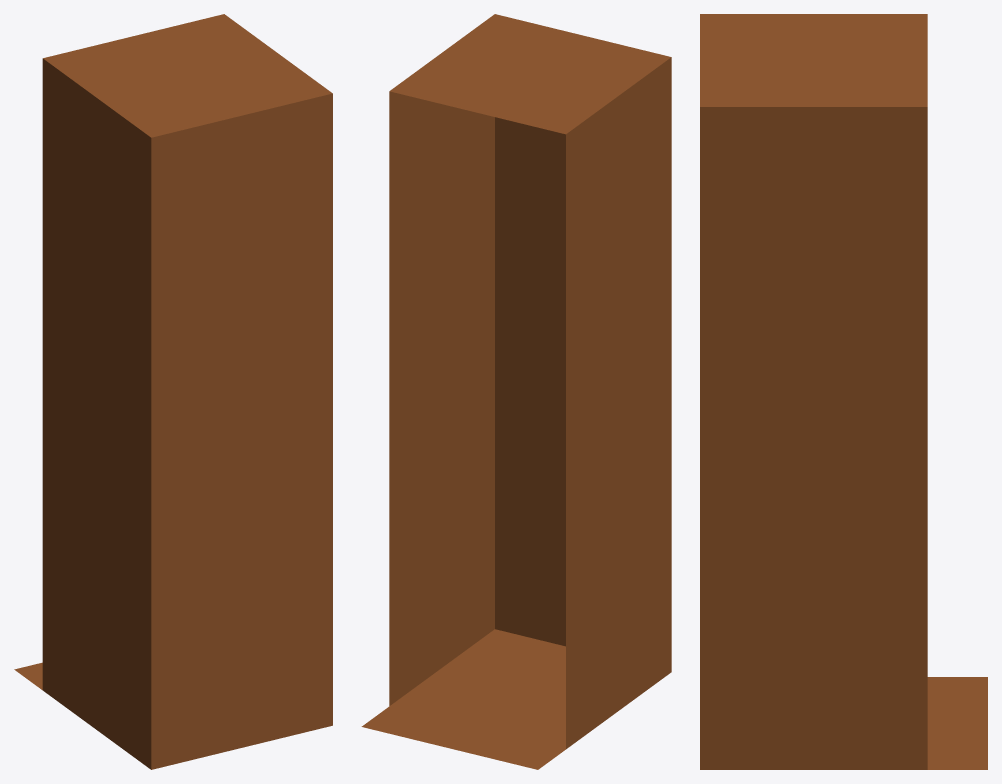
The model's file is DoorBack.glb.
The picture shows the model from 3 angles, left to right: view 1: azimuth 30°, elevation 25°; view 2: azimuth 150°, elevation 25°; view 3: azimuth 270°, elevation 25°; orthographic projection. The views are drawn at different scales.
Visible parts, largest first — view 1: S_Door_Back; view 2: S_Door_Back; view 3: S_Door_Back.
Boxes of the visible parts, x1,y1,x2,y2 form: S_Door_Back: (14,14,332,769); S_Door_Back: (361,14,671,769); S_Door_Back: (700,14,987,769).
Bounding box in the file's own units: 0.6591 × 2.19 × 0.8629.
